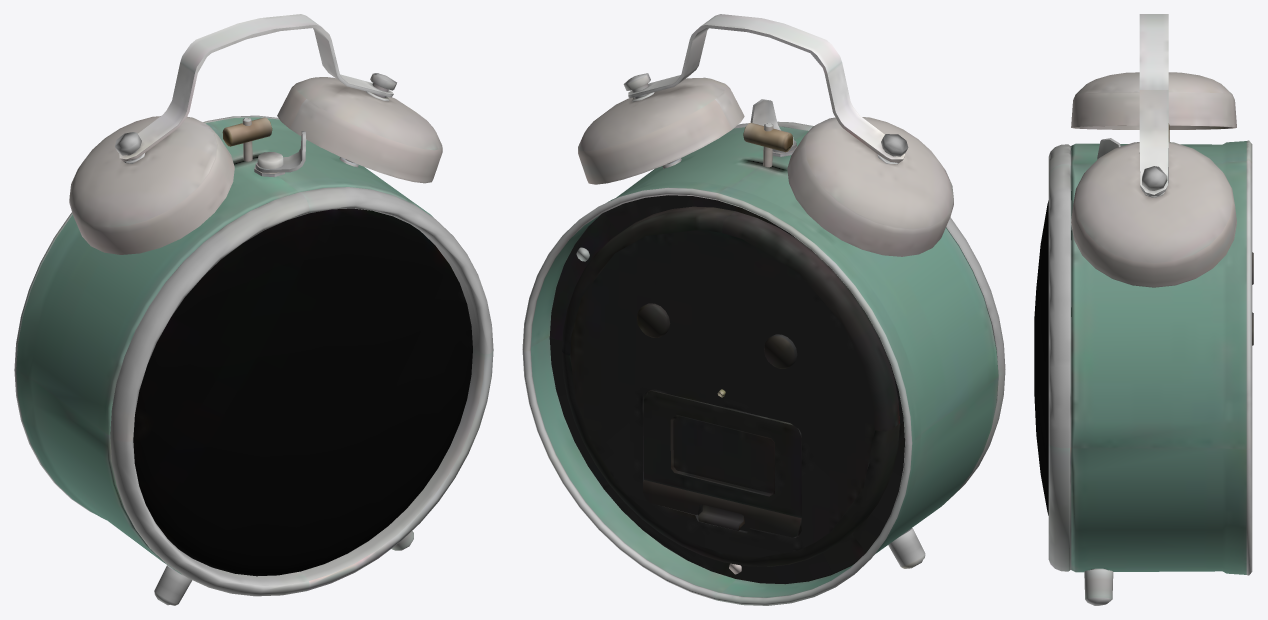
The model's file is alarm_clock_01.glb.
The picture shows the model from 3 angles, left to right: view 1: azimuth 30°, elevation 25°; view 2: azimuth 150°, elevation 25°; view 3: azimuth 270°, elevation 25°; orthographic projection. The views are drawn at different scales.
Parts seen in each view (by area): view 1: alarm_clock_01; view 2: alarm_clock_01; view 3: alarm_clock_01.
Part boxes in pixels (x1,y1,x2,y2): alarm_clock_01: [14, 14, 493, 605]; alarm_clock_01: [522, 14, 1005, 605]; alarm_clock_01: [1034, 14, 1253, 605].
Bounding box in the file's own units: 0.1316 × 0.1741 × 0.0662.
Materials: 2 (2 with a texture image).
